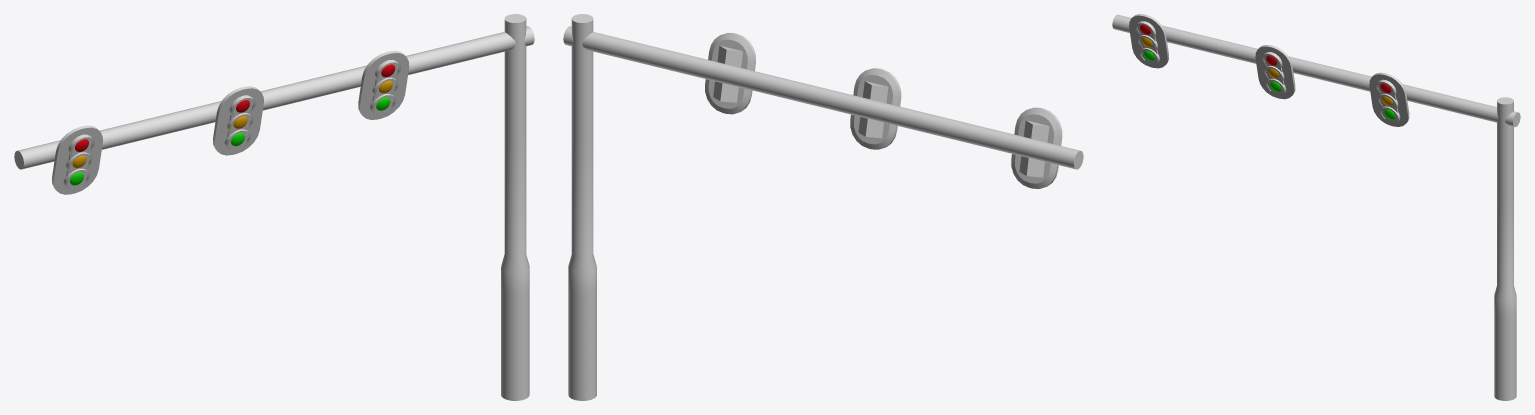
The model's file is verkeersligt (autoweg).fbx.
The picture shows the model from 3 angles, left to right: view 1: azimuth 30°, elevation 25°; view 2: azimuth 150°, elevation 25°; view 3: azimuth 330°, elevation 25°; orthographic projection. The views are drawn at different scales.
Visible parts, largest first — view 1: verkeersligt (autoweg); view 2: verkeersligt (autoweg); view 3: verkeersligt (autoweg).
Boxes of the visible parts, left/top/right/bottom form: verkeersligt (autoweg): left=14, top=14, right=534, bottom=400; verkeersligt (autoweg): left=563, top=14, right=1083, bottom=400; verkeersligt (autoweg): left=1112, top=14, right=1520, bottom=400.
Bounding box in the file's own units: 6.39 × 4.62 × 0.4852.
